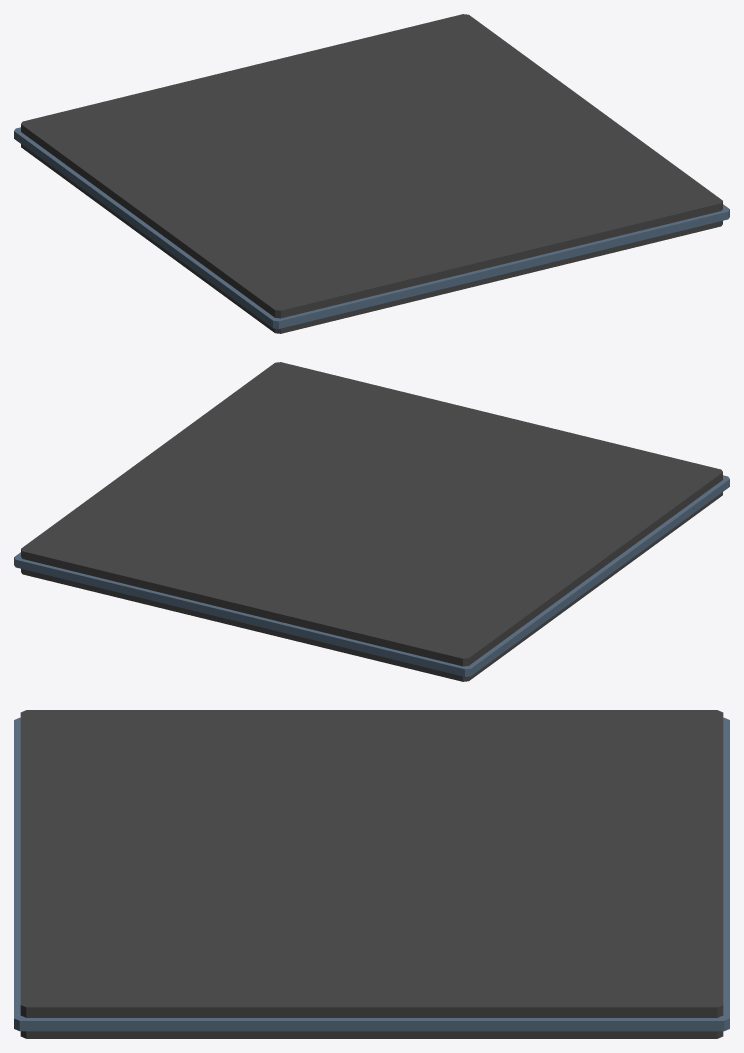
File: Blockout_Plattform_Large_Mid_01.FBX
The picture shows the model from 3 angles, top to bottom: view 1: azimuth 30°, elevation 25°; view 2: azimuth 150°, elevation 25°; view 3: azimuth 270°, elevation 25°; orthographic projection. The views are drawn at different scales.
Visible parts, largest first — view 1: Blockout_Plattform_Large_Mid_01; view 2: Blockout_Plattform_Large_Mid_01; view 3: Blockout_Plattform_Large_Mid_01.
Part boxes in pixels (bbox=[...]): Blockout_Plattform_Large_Mid_01: bbox=[14, 14, 729, 333]; Blockout_Plattform_Large_Mid_01: bbox=[14, 362, 729, 681]; Blockout_Plattform_Large_Mid_01: bbox=[14, 710, 729, 1038].
Bounding box in the file's own units: 1575 × 76.2 × 1572.
